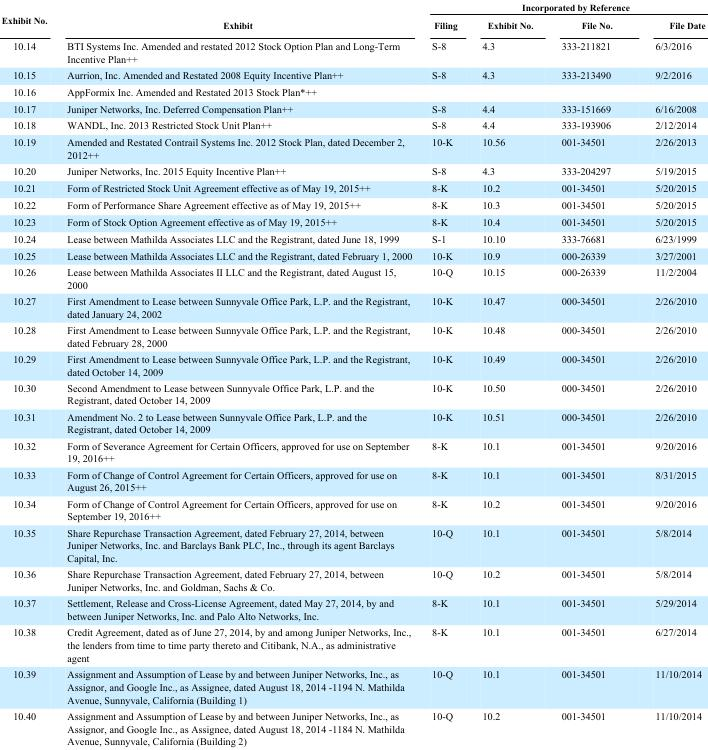table: (0, 1, 704, 746)
table column: (56, 1, 421, 746), (546, 1, 633, 746), (469, 1, 546, 746), (633, 1, 704, 746), (0, 1, 56, 746), (421, 1, 469, 746)
table column header: (0, 1, 704, 35)
table row: (0, 623, 704, 665), (0, 665, 704, 707), (0, 524, 704, 565), (0, 707, 704, 746), (0, 35, 704, 66), (0, 133, 704, 162), (0, 263, 704, 292), (0, 292, 704, 321), (0, 321, 704, 350), (0, 350, 704, 379), (0, 379, 704, 408), (0, 408, 704, 437), (0, 437, 704, 466), (0, 466, 704, 495), (0, 495, 704, 524), (0, 565, 704, 594), (0, 594, 704, 623), (0, 15, 704, 35), (0, 82, 704, 100), (0, 116, 704, 133), (0, 162, 704, 179), (0, 179, 704, 196), (0, 196, 704, 213), (0, 213, 704, 230), (0, 230, 704, 247), (0, 66, 704, 82), (0, 100, 704, 116), (0, 247, 704, 263), (0, 1, 704, 15)
table spanning cell: (56, 1, 421, 35), (421, 1, 704, 15), (0, 1, 56, 35)
